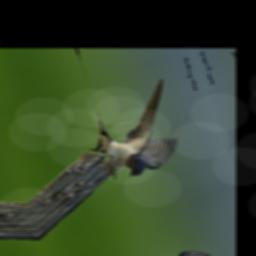Swallow: (74, 68, 190, 190)
